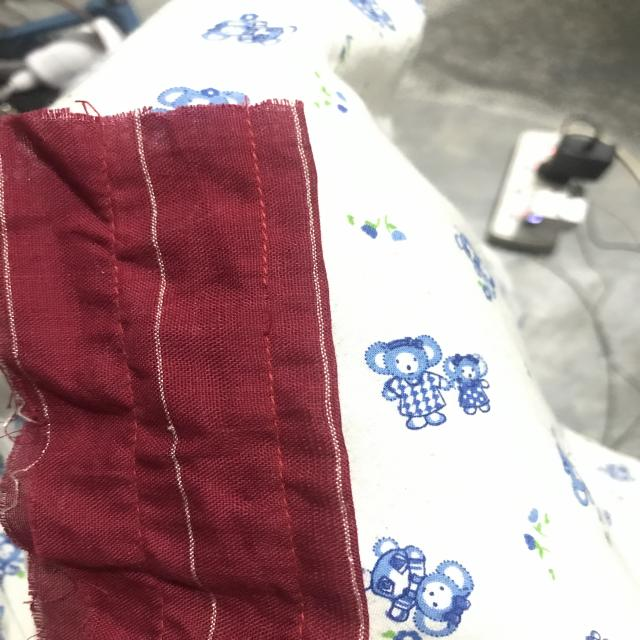broken: (254, 272, 284, 347)
good: (235, 164, 282, 234)
